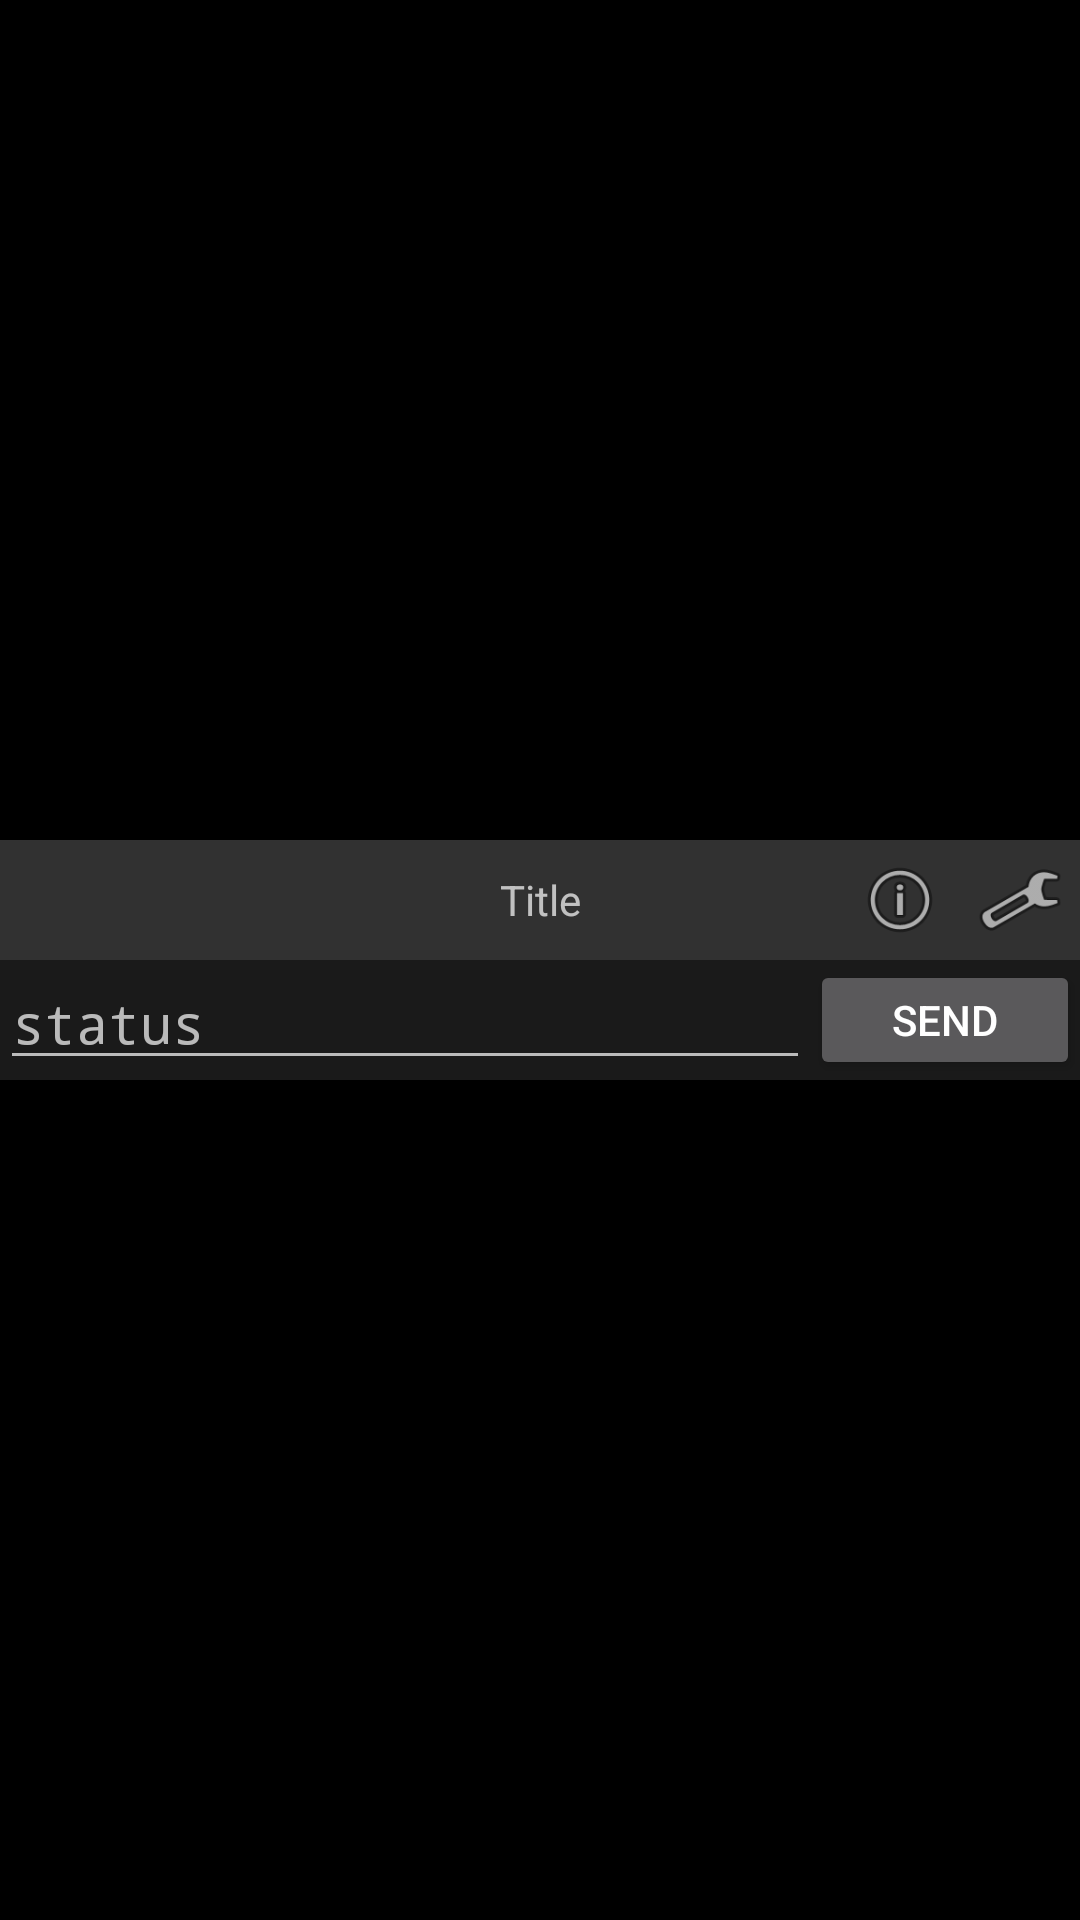

Where to tap for icons on this 1080px x 1920px app screen, as [x,y]:
info details: [900,900]
manage: [1020,900]
